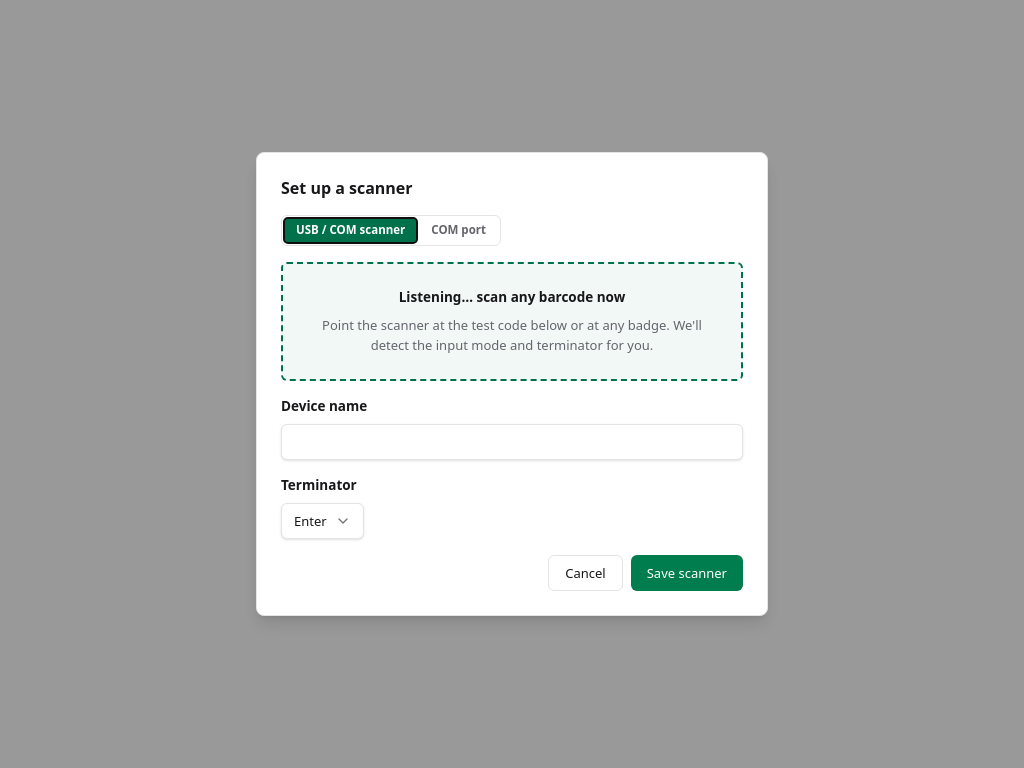
Test: ScannerWizard › COM path › surfaces an inline error and stays on the port list when POST /scanners/add fails
The image size is (1024, 768).
Click the button "COM port". click: (459, 231)
box: [419,218,498,243]
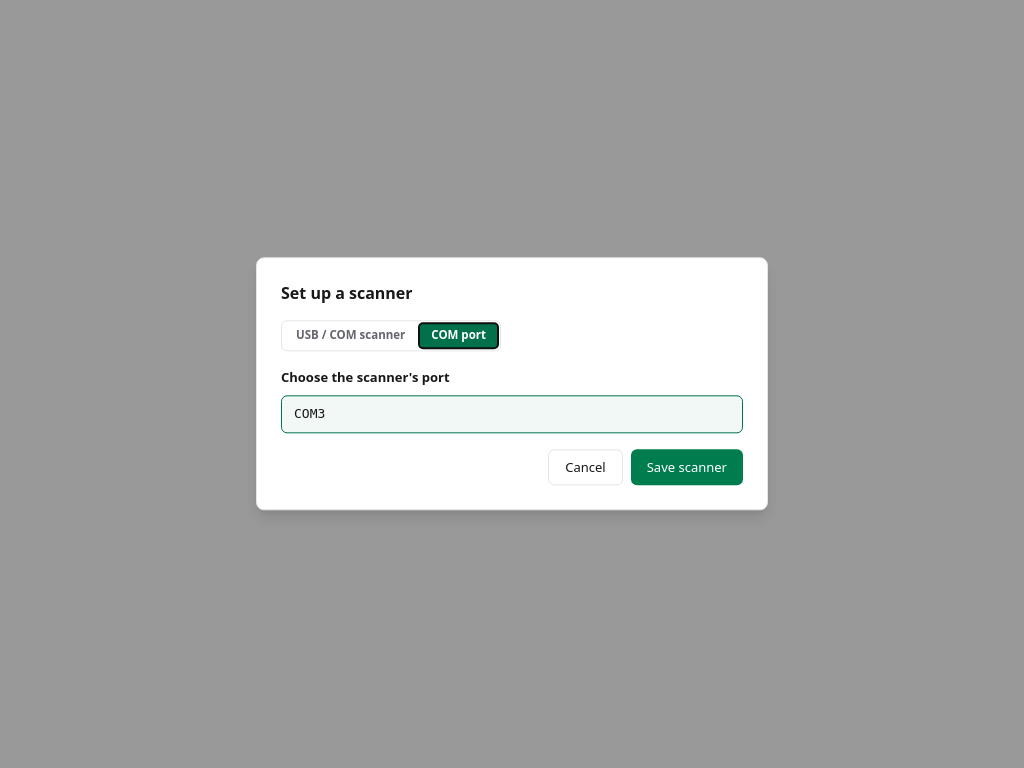
Click the button "COM3". click: (310, 414)
box: [281,396,743,434]
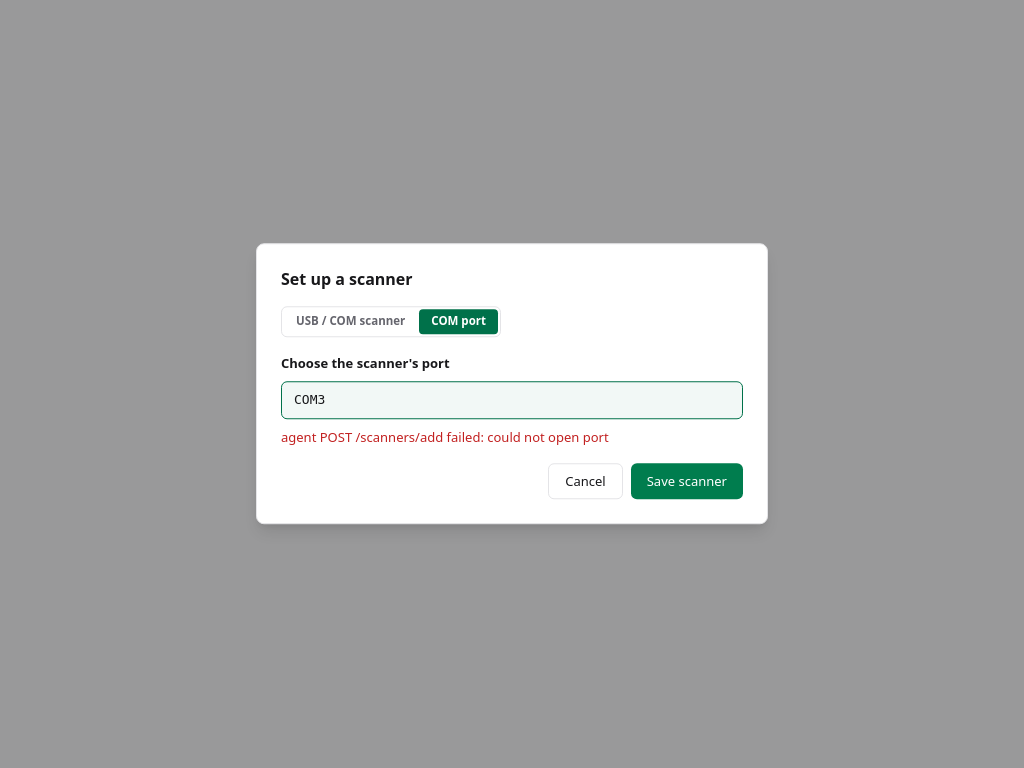
Check: the list with test id "scanner-wizard-ports-list" is shown, box [281,382,743,420]
Check: the text "agent POST /scanners/add failed: could not open port" is shown, box [281,429,609,447]
